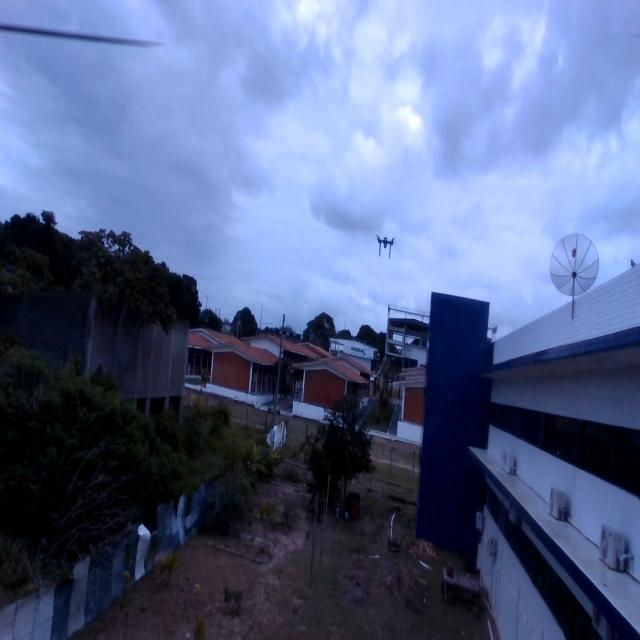-uav-: (370, 222, 403, 267)
